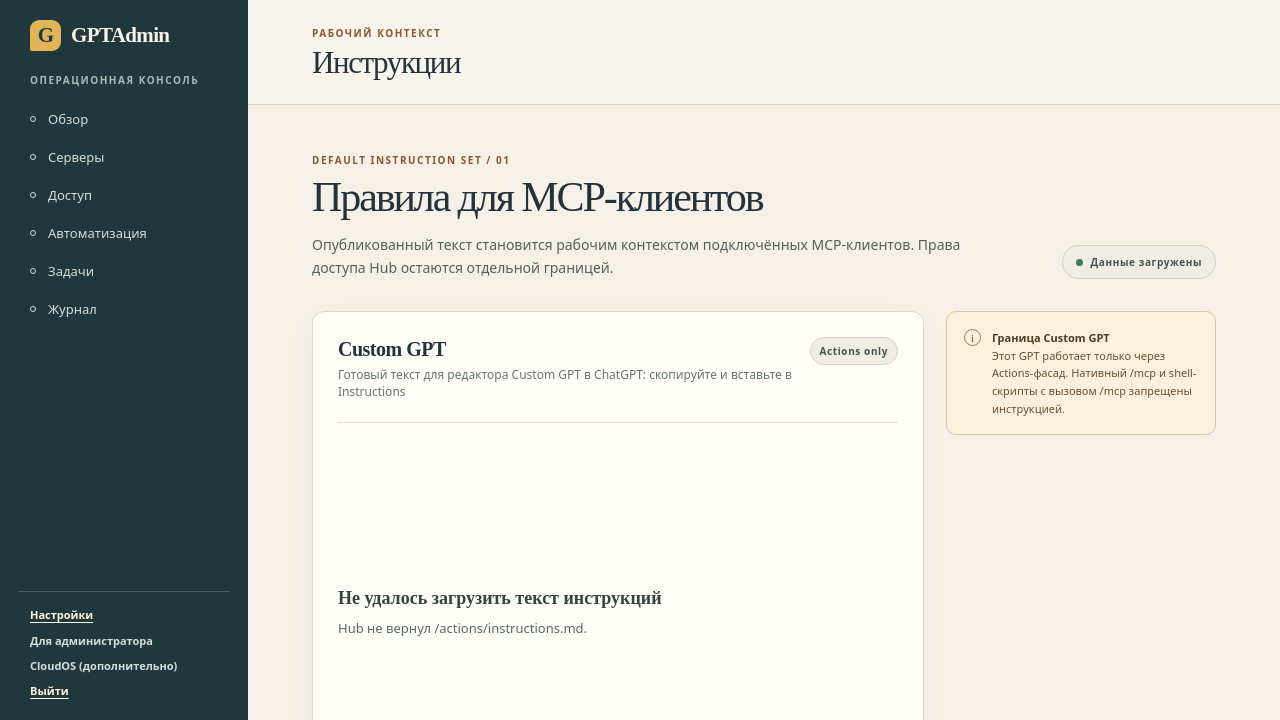
Test case: Profiles › exposes an error state and retry without hiding navigation
Click the link "Доступ". click: (61, 194)
box: [30,186,92,204]
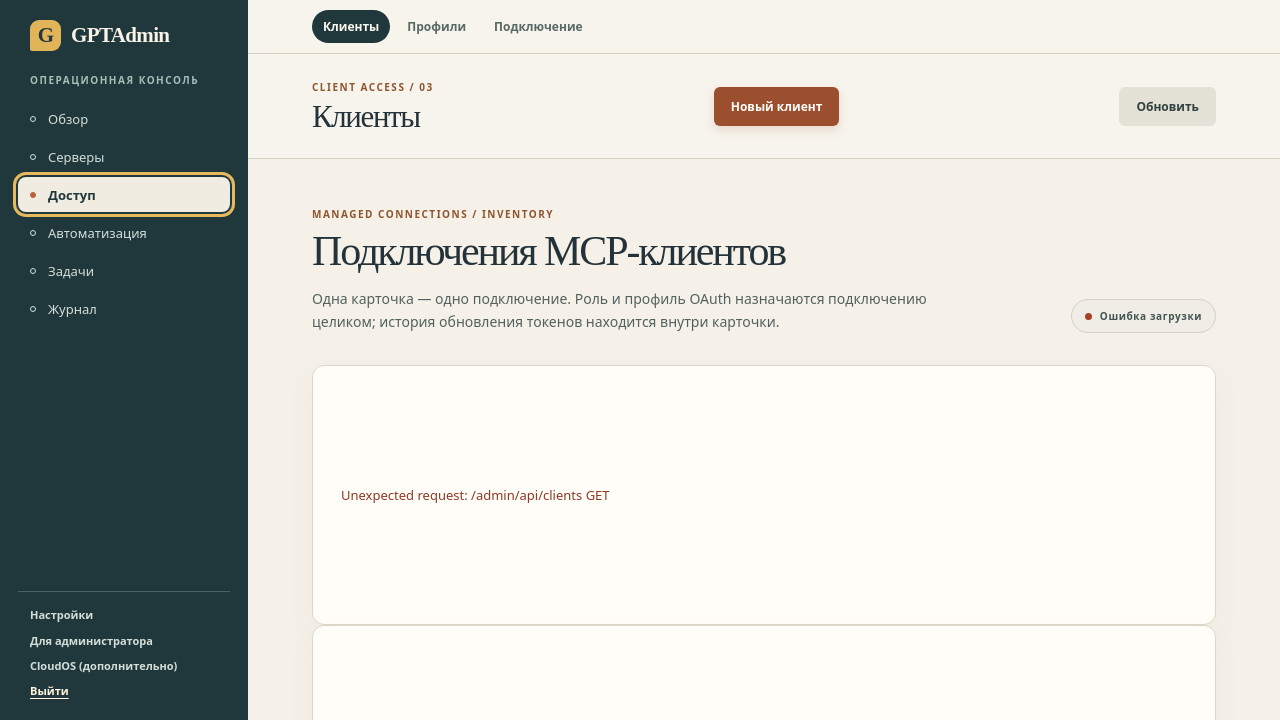
Click the link "Профили". click: (437, 26)
box: [407,18,466,35]
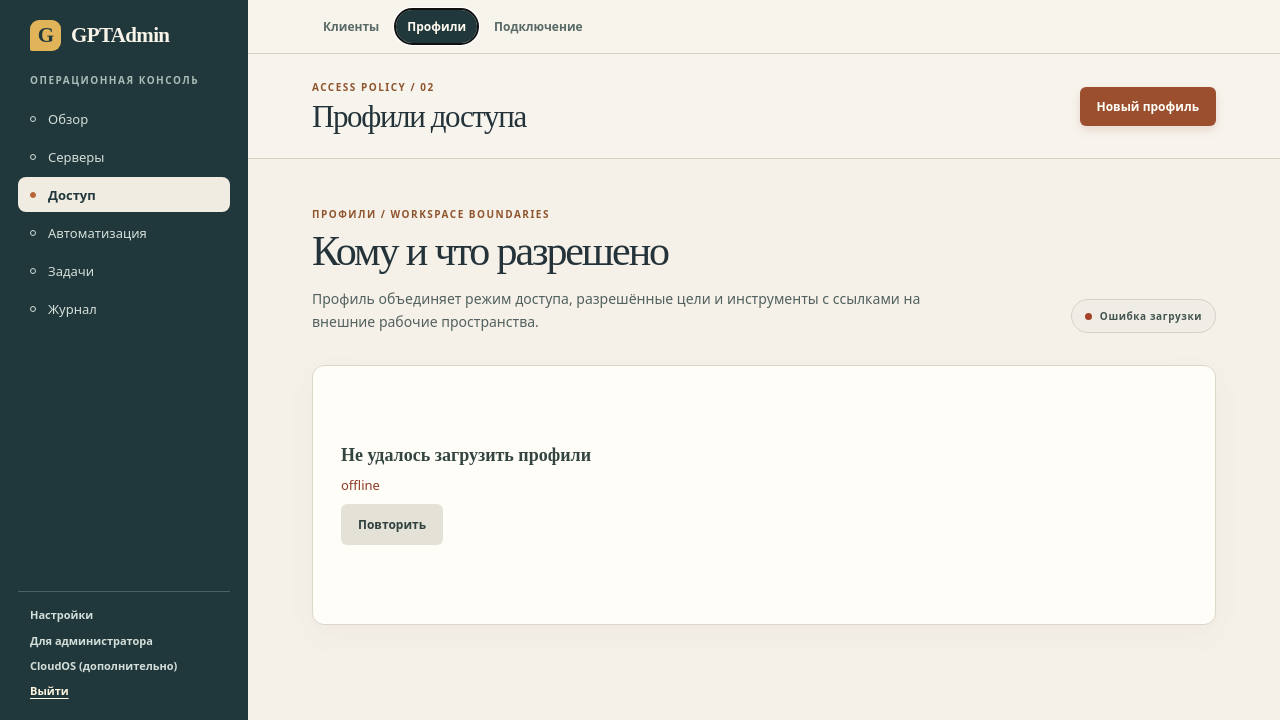
Expected: the link "Настройки" is shown, [30,607,93,622]
Expected: the button "Повторить" is enabled, [341,504,443,545]
Expected: the message "Не удалось загрузить профили offline Повторить" is shown, [312,365,1216,625]
